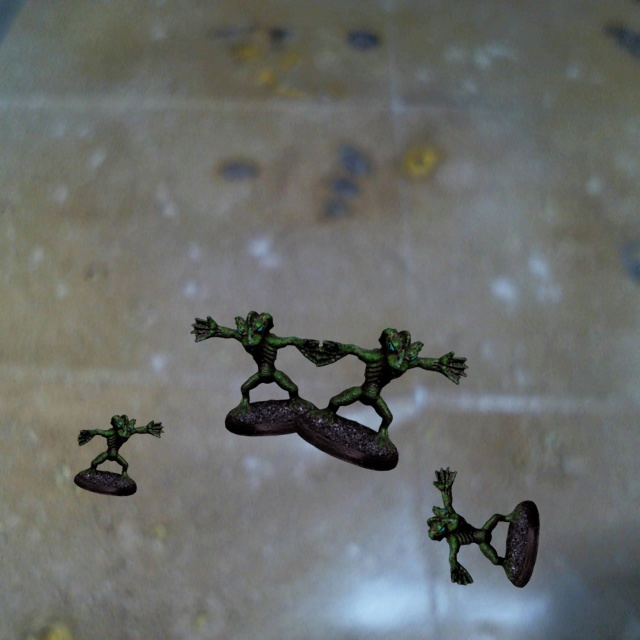pieza_juego: (293, 328, 468, 470), (190, 311, 322, 436), (427, 467, 539, 587), (74, 414, 163, 495)
